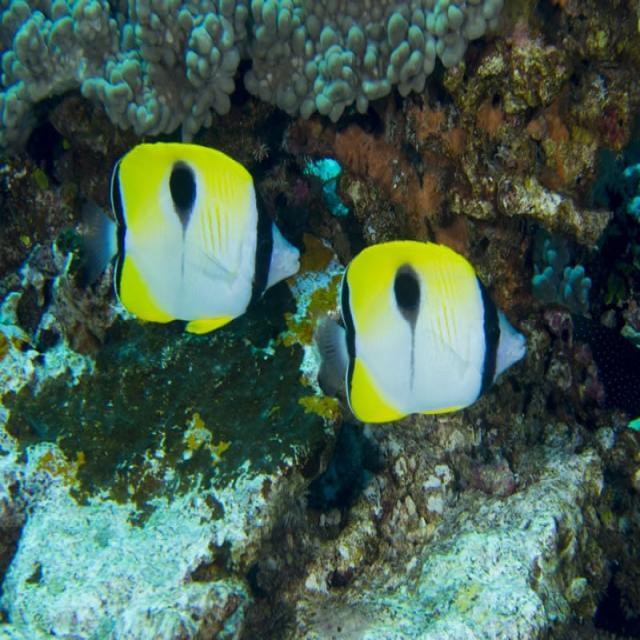ButterflyFish: (80, 140, 323, 332), (312, 244, 514, 429)
